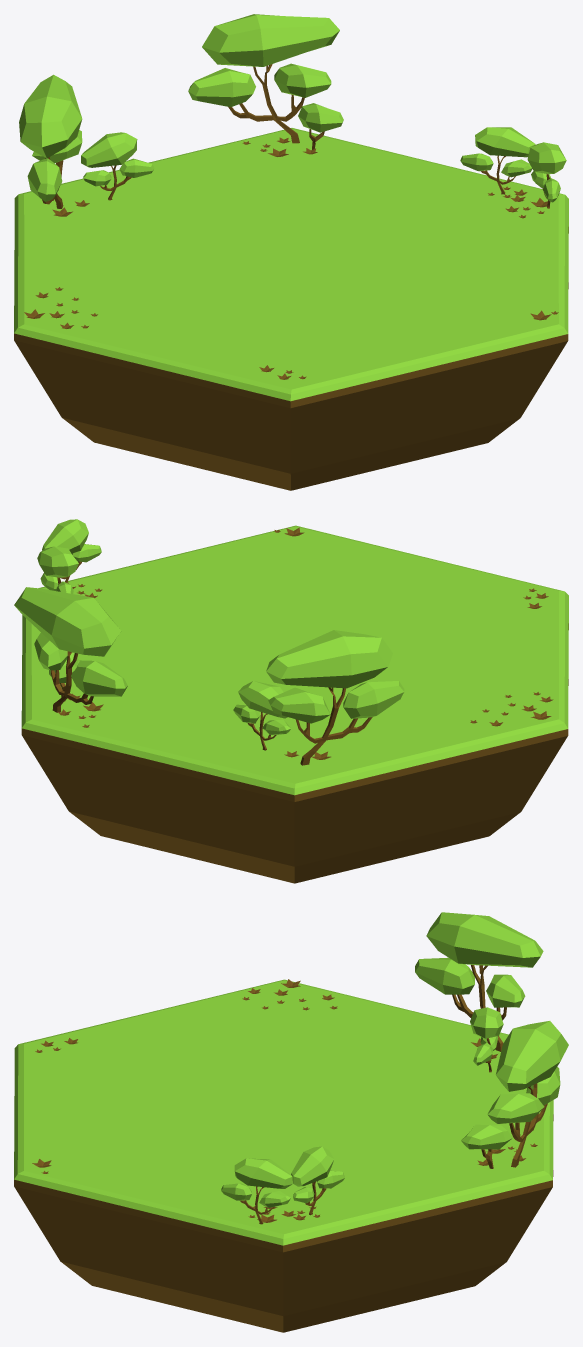
File: Asset_Biome_Plain_03.fbx
3 renders of one model, top to bottom at view 1: azimuth 30°, elevation 25°; view 2: azimuth 150°, elevation 25°; view 3: azimuth 270°, elevation 25°, orthographic. The views are drawn at different scales.
Parts seen in each view (by area): view 1: Asset_Tile_Plain, Asset_Tree_Plain_01, Asset_Tree_Plain_08, Asset_Tree_Plain_02, Asset_Tree_Plain_010, Asset_Tree_Plain_09, Asset_Tree_Plain_04; view 2: Asset_Tile_Plain, Asset_Tree_Plain_08, Asset_Tree_Plain_01, Asset_Tree_Plain_02, Asset_Tree_Plain_09, Asset_Tree_Plain_010; view 3: Asset_Tile_Plain, Asset_Tree_Plain_08, Asset_Tree_Plain_01, Asset_Tree_Plain_09, Asset_Tree_Plain_010, Asset_Tree_Plain_02, Asset_Tree_Plain_04.
Part boxes in pixels (x1,y1,x2,y2): Asset_Tile_Plain: (14, 128, 568, 490); Asset_Tree_Plain_01: (188, 14, 339, 143); Asset_Tree_Plain_08: (19, 74, 82, 208); Asset_Tree_Plain_02: (81, 132, 154, 200); Asset_Tree_Plain_010: (460, 127, 535, 194); Asset_Tree_Plain_09: (527, 142, 566, 208); Asset_Tree_Plain_04: (298, 103, 343, 149); Asset_Tile_Plain: (21, 525, 568, 883); Asset_Tree_Plain_08: (266, 630, 404, 765); Asset_Tree_Plain_01: (14, 587, 127, 712); Asset_Tree_Plain_02: (233, 681, 290, 750); Asset_Tree_Plain_09: (42, 519, 101, 582); Asset_Tree_Plain_010: (37, 546, 78, 593); Asset_Tile_Plain: (14, 979, 553, 1332); Asset_Tree_Plain_08: (415, 912, 543, 1051); Asset_Tree_Plain_01: (487, 1021, 568, 1167); Asset_Tree_Plain_09: (221, 1158, 292, 1224); Asset_Tree_Plain_010: (291, 1146, 344, 1215); Asset_Tree_Plain_02: (470, 1007, 503, 1072); Asset_Tree_Plain_04: (461, 1124, 512, 1168).
Bounding box in the file's own units: 436 × 206 × 389.
